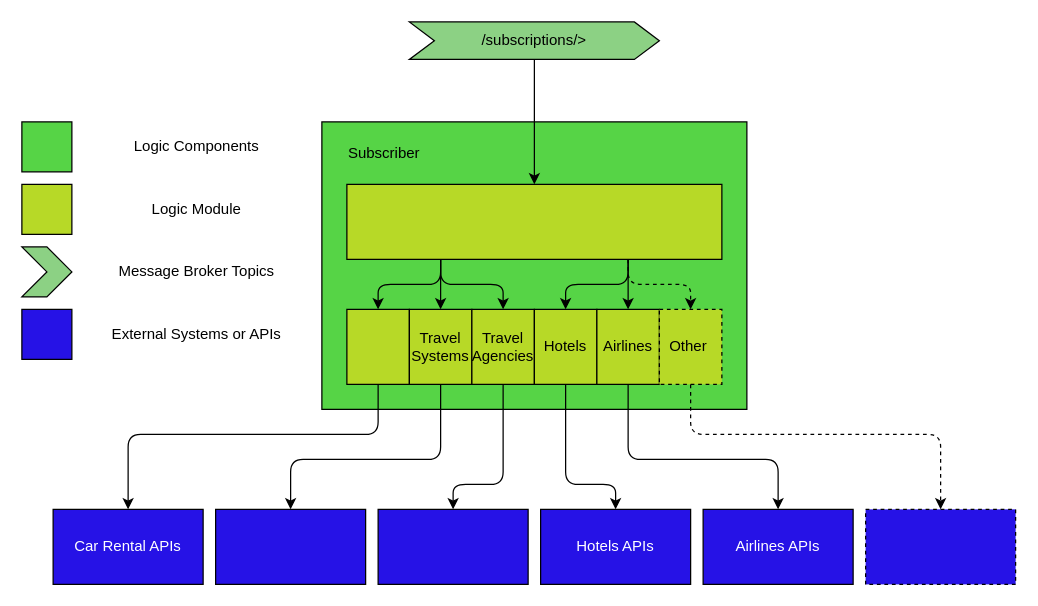
This 1038x606 diagram has some shape labels left out. Here are the shapes that lost their labels. From the top down, the centre of each, then its label:
At pixel 534 221: "Subscription Processor".
At pixel 377 346: "Car Rentals".
At pixel 290 546: "Travel System APIs".
At pixel 452 546: "Travel Agency APIs".
At pixel 940 546: "Other Transport APIs (out of MVP scope)".
